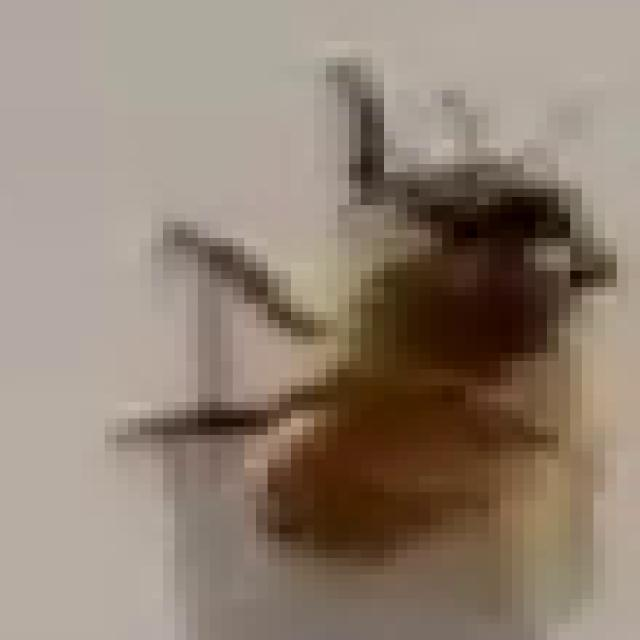honeybee: (130, 64, 586, 560)
